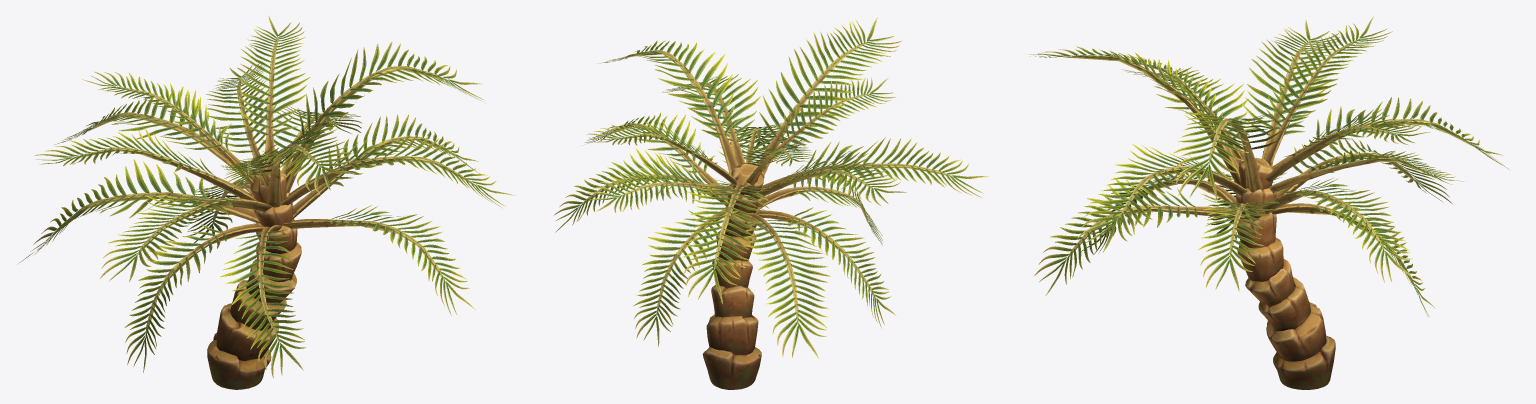
File: tamareira2.glb
3 views of the same model, side by side, from view 1: azimuth 30°, elevation 25°; view 2: azimuth 150°, elevation 25°; view 3: azimuth 270°, elevation 25° (orthographic). The views are drawn at different scales.
Visible parts, largest first — view 1: tamareira2; view 2: tamareira2; view 3: tamareira2.
Boxes of the visible parts, <box> form: tamareira2: <box>17,15,515,389</box>; tamareira2: <box>553,18,989,389</box>; tamareira2: <box>1030,16,1509,389</box>.
Bounding box in the file's own units: 13.54 × 10 × 13.62.
Materials: 1 (1 with a texture image).
